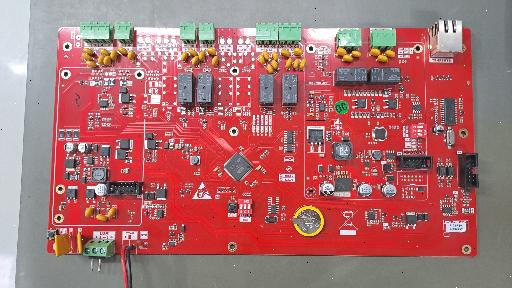var: (53, 233, 72, 257), (106, 205, 116, 221), (77, 232, 82, 254), (127, 50, 136, 62), (96, 212, 107, 221), (336, 47, 347, 56), (103, 55, 112, 66), (81, 53, 93, 61), (85, 207, 94, 217), (342, 54, 353, 62), (370, 48, 381, 56), (110, 50, 118, 61), (83, 48, 95, 55), (86, 60, 98, 67), (258, 54, 265, 66), (207, 47, 216, 56), (188, 49, 198, 57), (351, 50, 361, 58), (281, 49, 291, 57), (191, 56, 199, 66), (118, 47, 128, 55), (293, 48, 303, 56), (377, 55, 388, 62), (199, 51, 206, 62), (211, 56, 218, 67), (271, 59, 278, 70), (286, 58, 292, 70), (267, 65, 275, 74), (293, 58, 299, 70), (181, 52, 188, 62), (100, 49, 110, 56), (385, 50, 395, 57), (98, 55, 105, 65), (263, 50, 269, 61), (300, 59, 306, 70), (272, 52, 278, 61)
